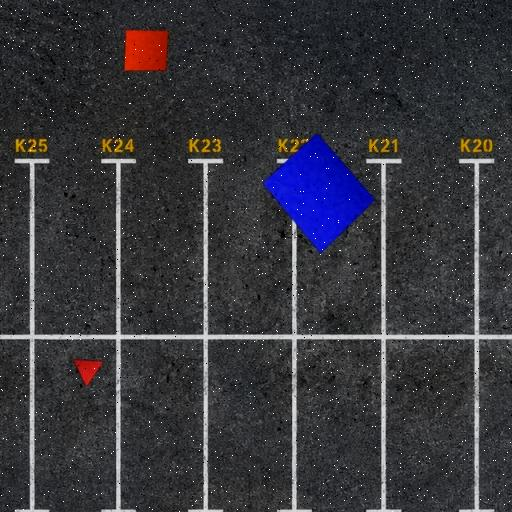BLUE_SQUARE: (262, 132, 376, 254)
RED_SQUARE: (123, 29, 170, 72)
